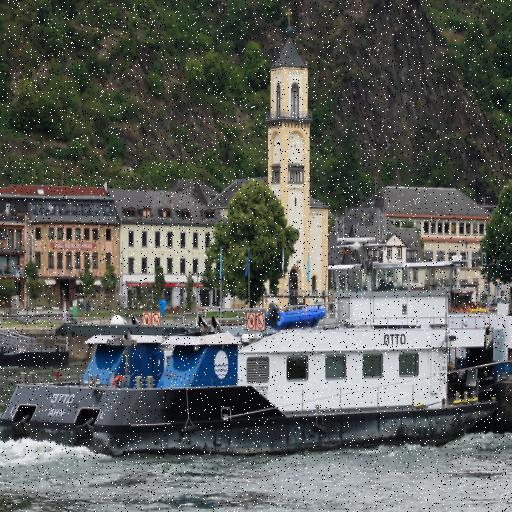tugboat: (1, 233, 507, 474)
